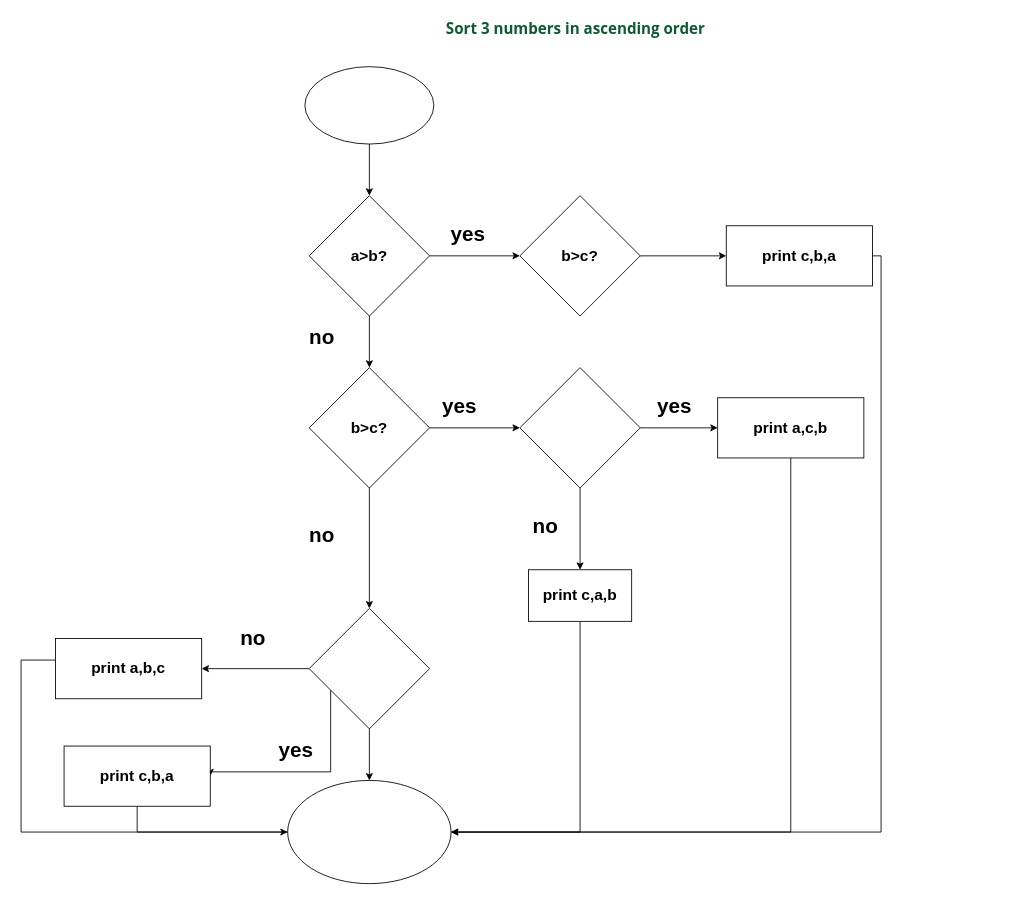
Image size: 1025x899. Some labels were removed from this diagram. Each missing label, with the centre of its shape:
"a<c?" goes at point 579,427.
"a>c?" goes at point 369,668.
"end" goes at point 369,832.
"start" goes at point 369,105.
